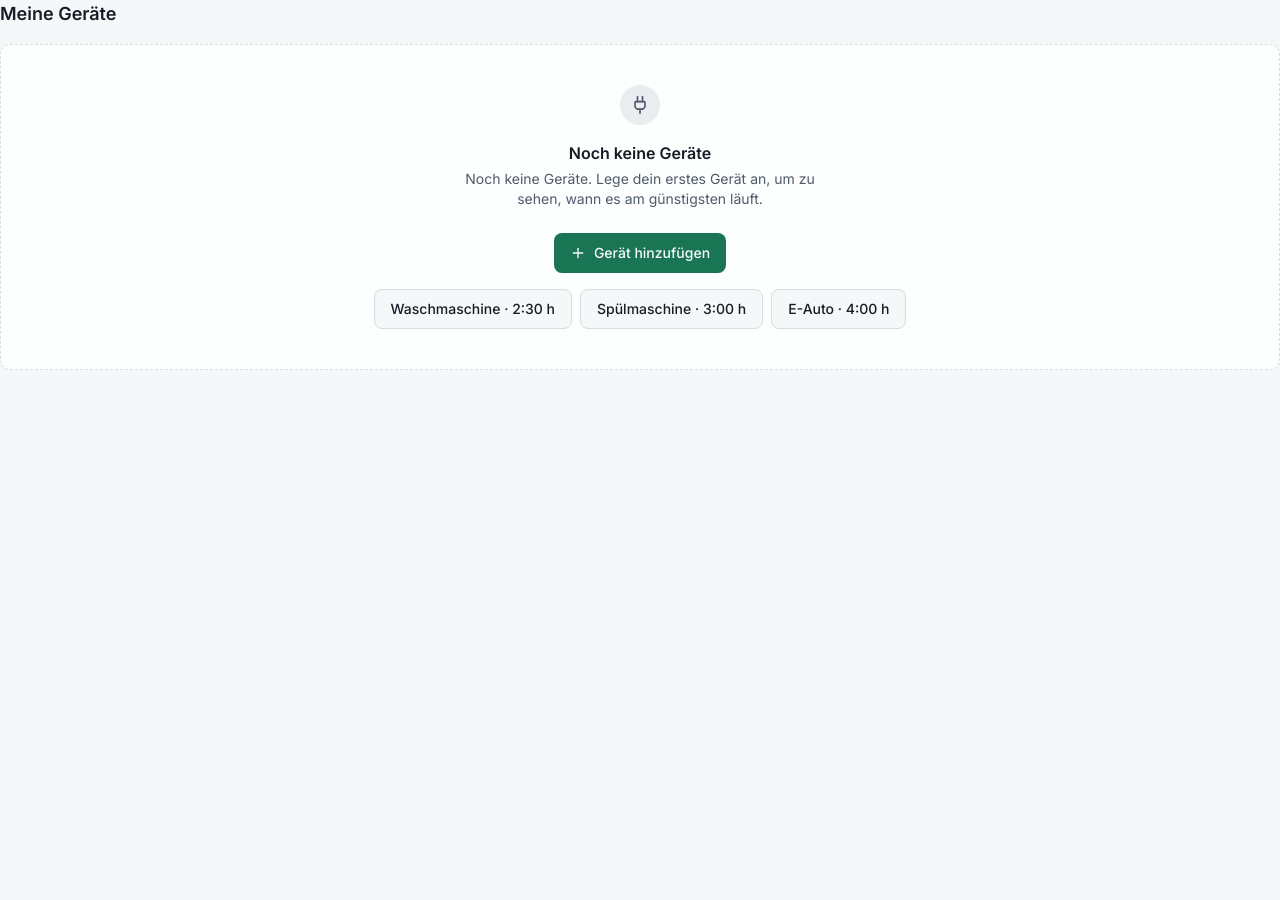
Test case: DevicesPanel — saving › adds the new card without a reload and confirms (AC-5)
This screenshot has width=1280, height=900.
Click the button "Waschmaschine · 2:30 h": (473, 309) x1=374 y1=289 x2=572 y2=329
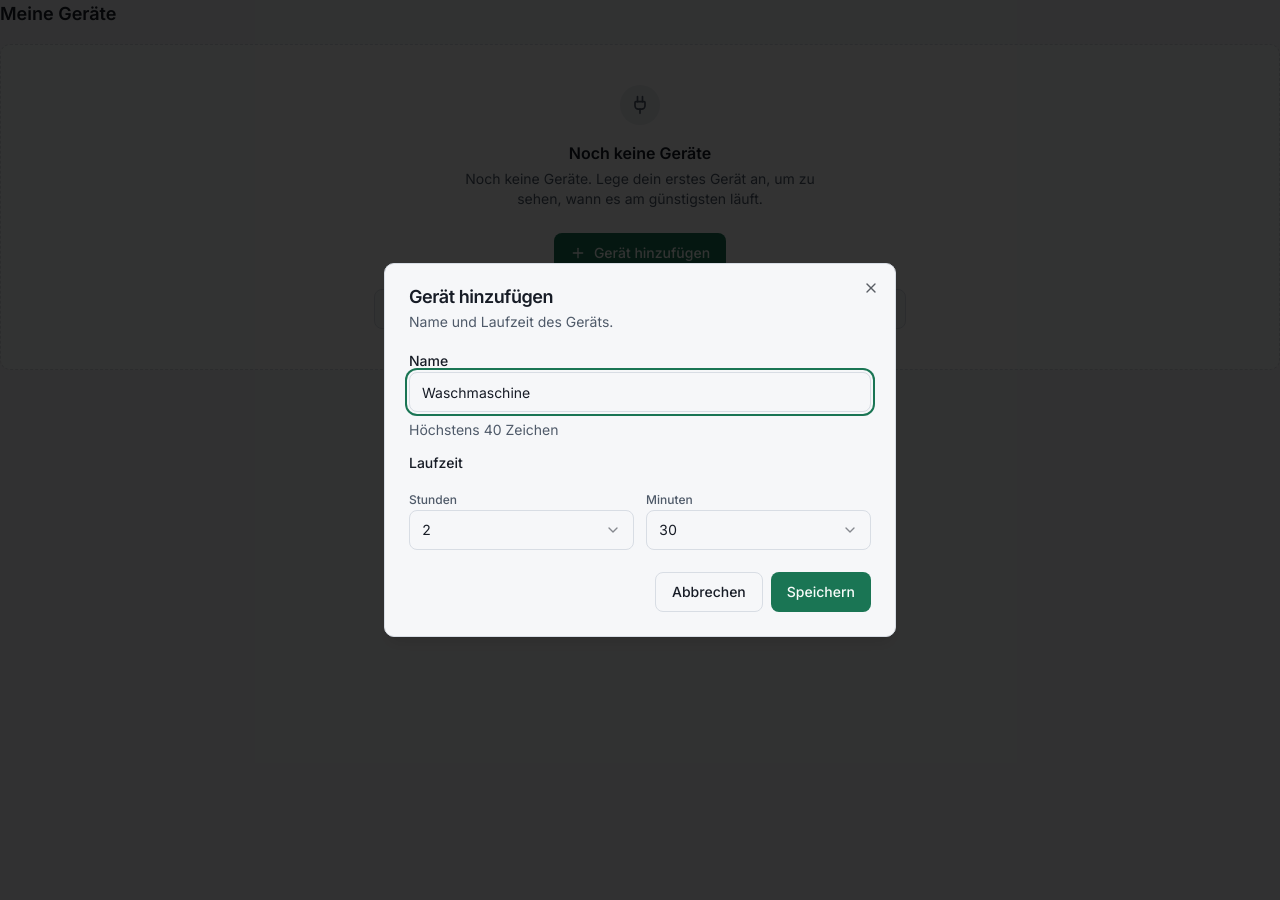
Click the button "Speichern": (821, 592) x1=771 y1=572 x2=871 y2=612
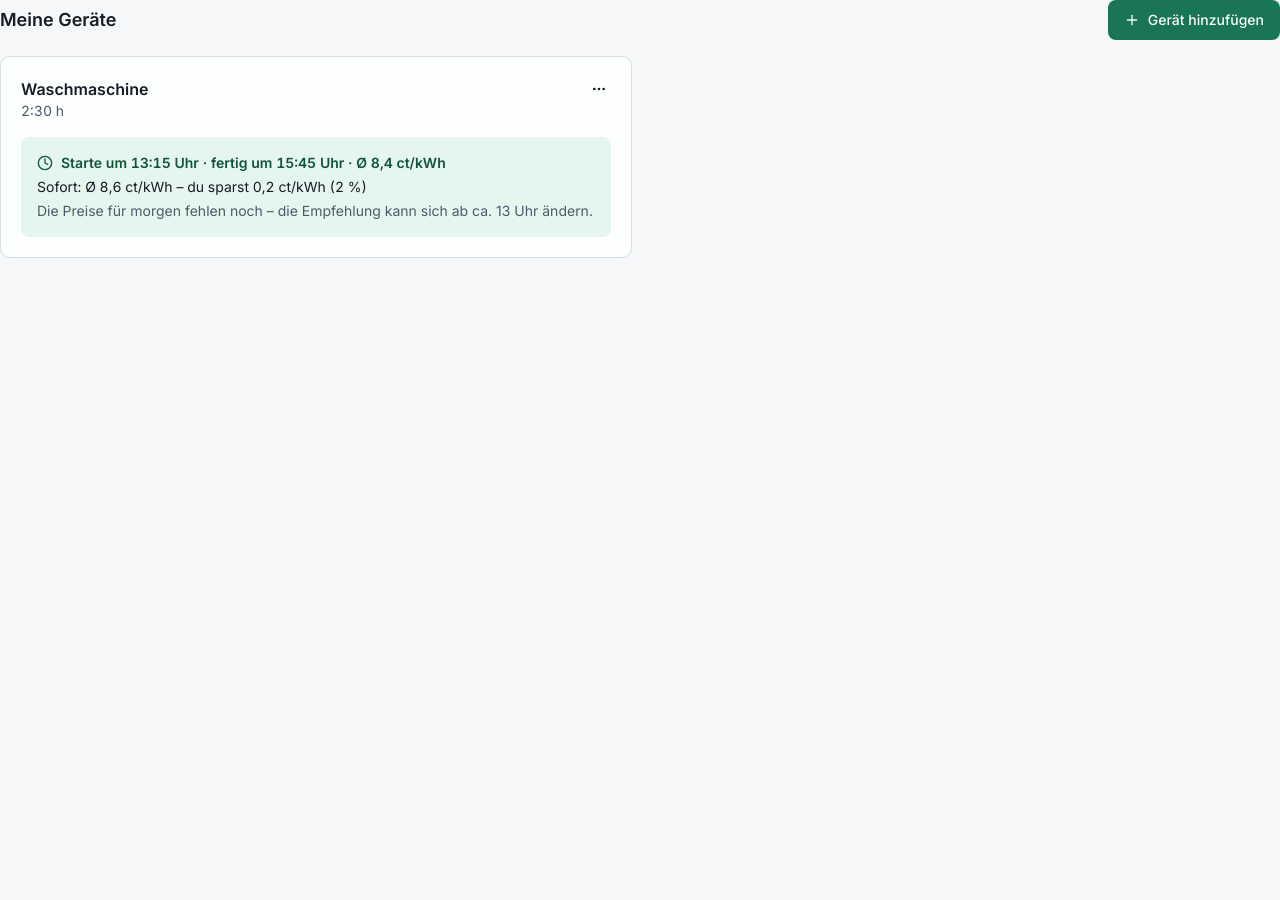
Expected: the dialog is gone
Expected: the element "Waschmaschine" is shown, x1=21 y1=77 x2=611 y2=237
